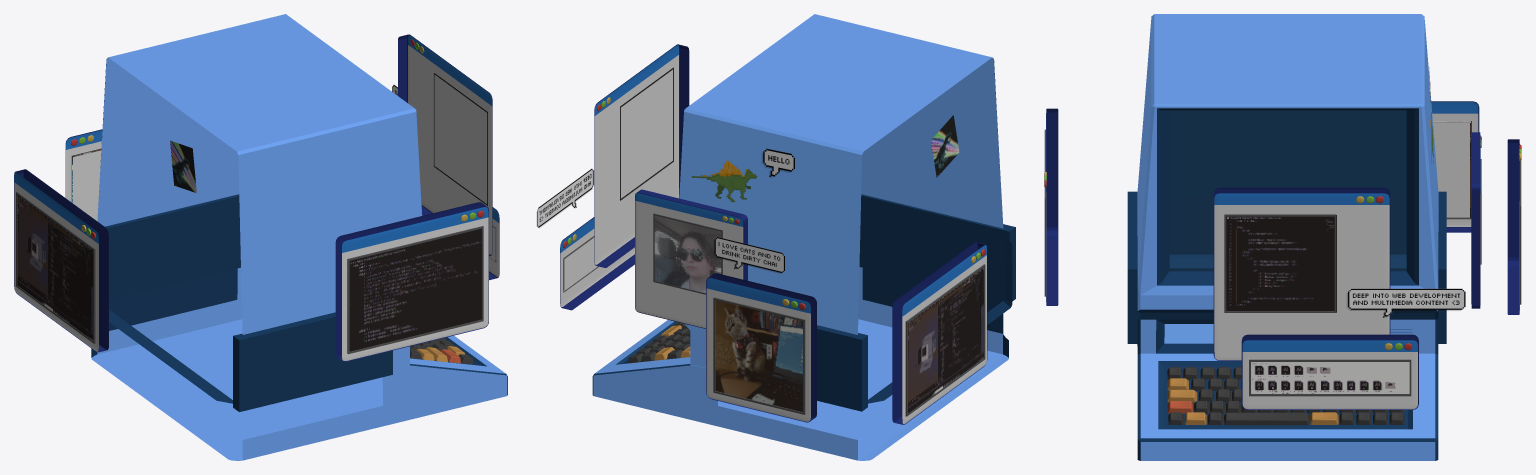
File: vintagepc.gltf
3 views of the same model, side by side, from view 1: azimuth 30°, elevation 25°; view 2: azimuth 150°, elevation 25°; view 3: azimuth 270°, elevation 25° (orthographic). The views are drawn at different scales.
Parts seen in each view (by area): view 1: Cube.002, pxArt (12), Cube.067, Cube.066, pxArt (5), Cube.069, Cube.070, pxArt (14), Cube.068; view 2: Cube.002, Cube.067, pxArtMe, pxArt (13), pxArt (5), Cube.070, Cube.069, Cube.068, pixel-speech-bubble (2), pixel-speech-bubble (3), pxArt (14), logo (+1 smaller); view 3: Cube.002, Cube.067, pxArt (6), Cube.068, pxArt (7), Cube.069, Cube.066, pixel-speech-bubble (3), Cube.070, pxArtMe, Cube.016.
Part boxes in pixels (x1=…): Cube.002: x1=91, y1=14, x2=507, y2=460; pxArt (12): x1=349, y1=228, x2=481, y2=351; Cube.067: x1=398, y1=34, x2=492, y2=256; Cube.066: x1=335, y1=202, x2=488, y2=361; pxArt (5): x1=17, y1=195, x2=93, y2=340; Cube.069: x1=14, y1=169, x2=108, y2=352; Cube.070: x1=65, y1=129, x2=102, y2=220; pxArt (14): x1=170, y1=140, x2=196, y2=193; Cube.068: x1=489, y1=207, x2=499, y2=280; Cube.002: x1=592, y1=14, x2=1015, y2=460; Cube.067: x1=594, y1=44, x2=689, y2=267; pxArtMe: x1=635, y1=189, x2=747, y2=328; pxArt (13): x1=715, y1=300, x2=802, y2=411; pxArt (5): x1=908, y1=267, x2=983, y2=413; Cube.070: x1=706, y1=273, x2=816, y2=422; Cube.069: x1=892, y1=242, x2=987, y2=424; Cube.068: x1=560, y1=217, x2=634, y2=310; pixel-speech-bubble (2): x1=714, y1=237, x2=784, y2=273; pixel-speech-bubble (3): x1=536, y1=168, x2=593, y2=227; pxArt (14): x1=931, y1=115, x2=959, y2=177; logo: x1=691, y1=161, x2=757, y2=201; Cube.002: x1=1127, y1=14, x2=1446, y2=460; Cube.067: x1=1213, y1=187, x2=1390, y2=360; pxArt (6): x1=1226, y1=215, x2=1336, y2=312; Cube.068: x1=1241, y1=334, x2=1418, y2=409; pxArt (7): x1=1251, y1=362, x2=1409, y2=393; Cube.069: x1=1431, y1=101, x2=1479, y2=232; Cube.066: x1=1044, y1=108, x2=1058, y2=305; pixel-speech-bubble (3): x1=1347, y1=288, x2=1465, y2=317; Cube.070: x1=1507, y1=139, x2=1521, y2=314; pxArtMe: x1=1471, y1=132, x2=1481, y2=308; Cube.016: x1=1224, y1=412, x2=1309, y2=425.
Bounding box in the file's own units: 12.34 × 9.52 × 13.15.
Materials: 24 (11 with a texture image).
